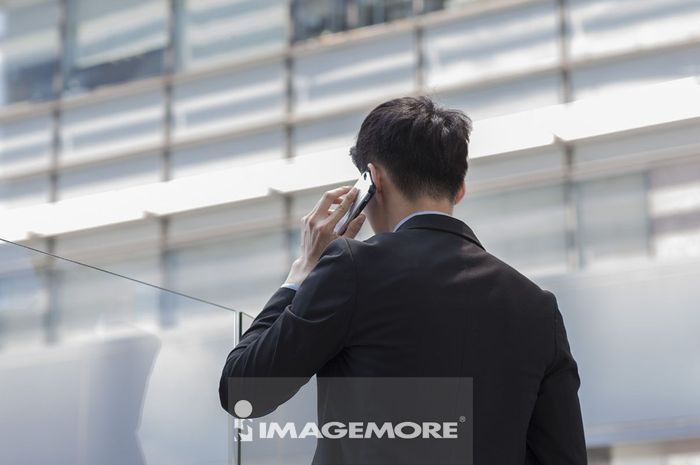phone: (332, 167, 374, 233)
